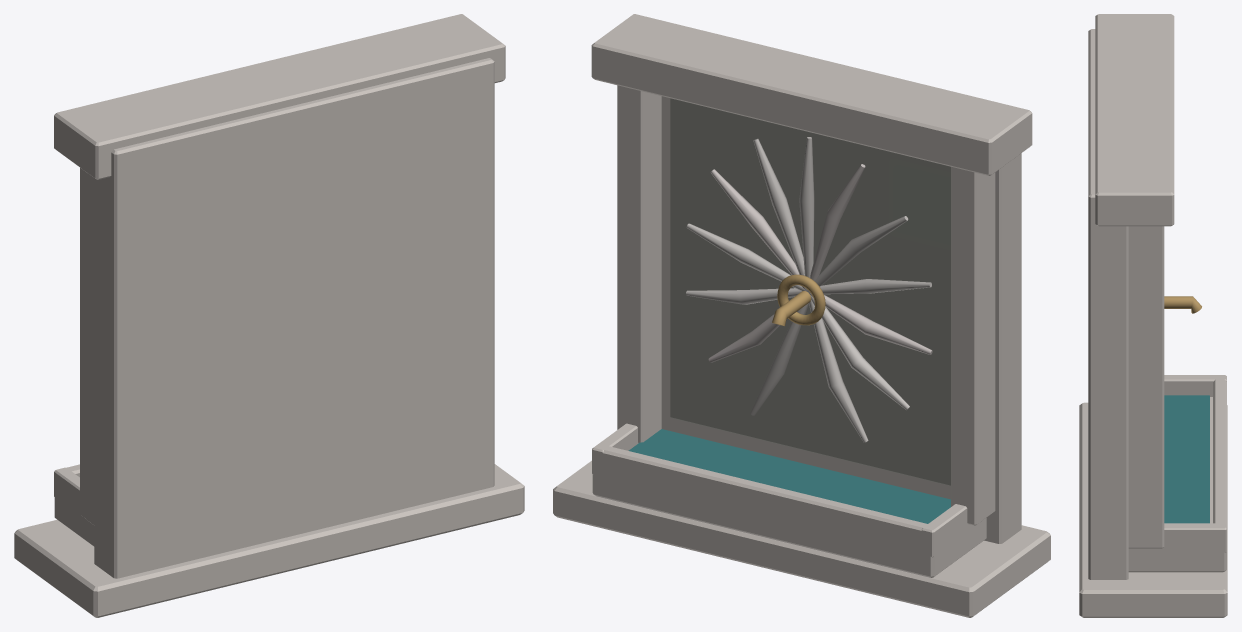
Rendered from mobile.glb.
3 views of the same model, side by side, from view 1: azimuth 30°, elevation 25°; view 2: azimuth 150°, elevation 25°; view 3: azimuth 270°, elevation 25° (orthographic). The views are drawn at different scales.
Bounding box in the file's own units: 2.9 × 3 × 0.96.
Materials: 1 (1 with a texture image).
